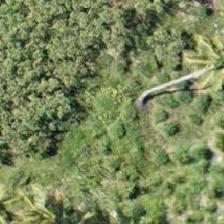coconut_tree: (99, 58, 189, 148)
